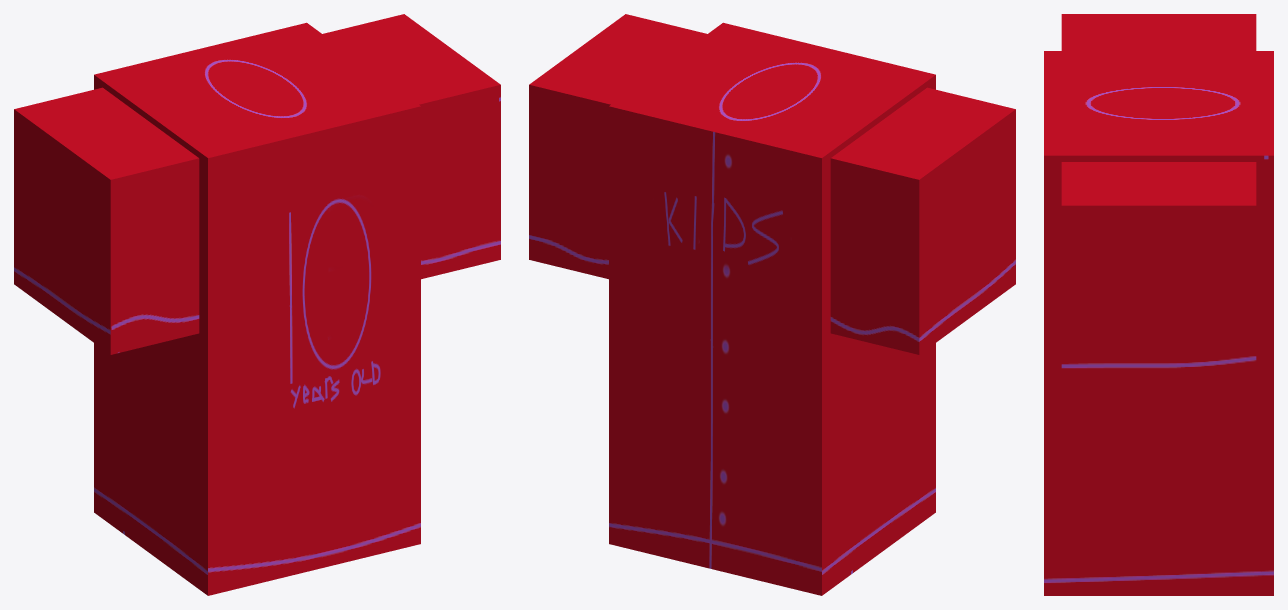
The model's file is redshirt.dae.
3 renders of one model, left to right at view 1: azimuth 30°, elevation 25°; view 2: azimuth 150°, elevation 25°; view 3: azimuth 270°, elevation 25°, orthographic.
Visible parts, largest first — view 1: baked; view 2: baked; view 3: baked.
Part boxes in pixels (x1,y1,x2,y2): baked: (14,14,500,595); baked: (529,14,1015,595); baked: (1044,14,1273,595).
Size of the model in its own units: 0.5131 by 0.26 by 0.55.
Materials: 1 (1 with a texture image).
